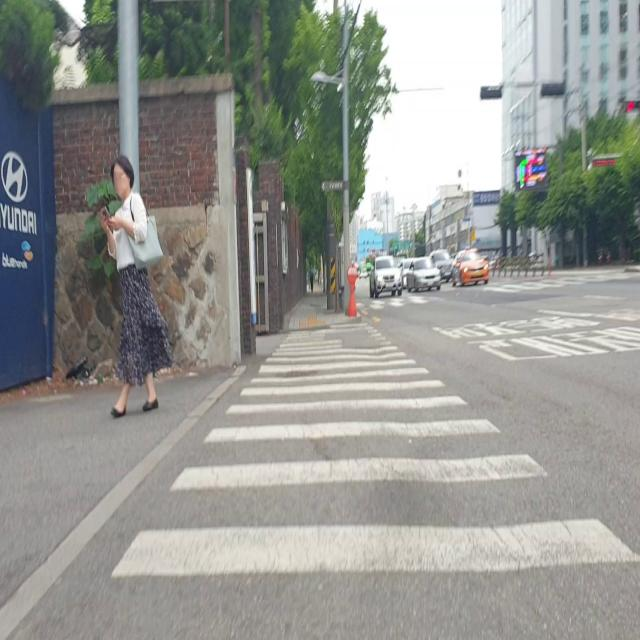횡단보도: (108, 315, 639, 584), (352, 270, 640, 312)
